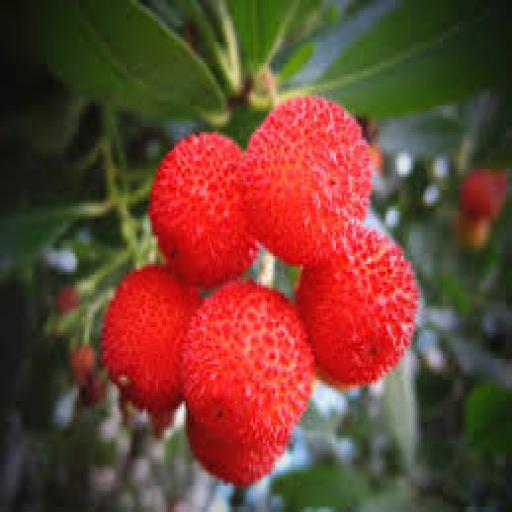lychee: (182, 283, 314, 448), (242, 96, 371, 263), (297, 222, 419, 385), (151, 132, 256, 287), (101, 264, 201, 411), (186, 415, 284, 485), (459, 169, 508, 221), (70, 344, 96, 385)
